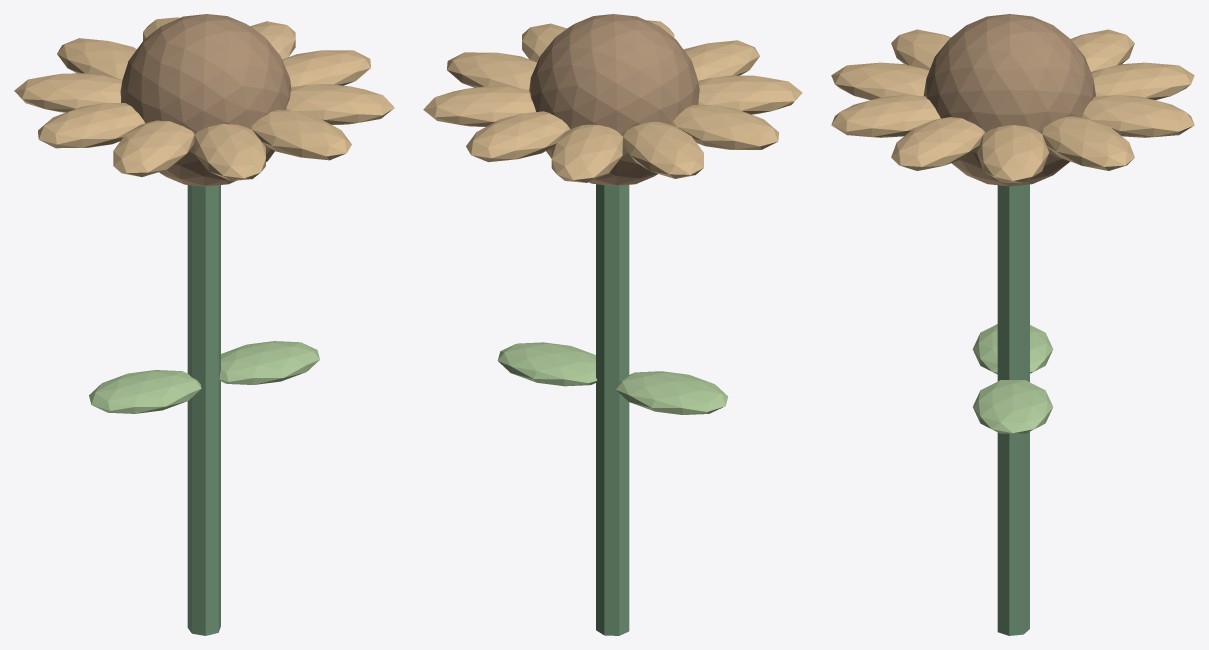
File: sunflower.glb
3 renders of one model, left to right at view 1: azimuth 30°, elevation 25°; view 2: azimuth 150°, elevation 25°; view 3: azimuth 270°, elevation 25°, orthographic.
Parts seen in each view (by area): view 1: Pollen, Stalk, Leaf_-1, Petal_5, Leaf_1, Petal_2, Petal_4, Petal_3, Petal_1, Petal_6, Petal_0, Petal_7 (+1 smaller); view 2: Pollen, Stalk, Leaf_-1, Petal_8, Petal_5, Leaf_1, Petal_6, Petal_9, Petal_7, Petal_4, Petal_0, Petal_3 (+1 smaller); view 3: Pollen, Stalk, Petal_8, Petal_9, Petal_1, Leaf_1, Petal_2, Petal_0, Petal_7, Petal_3, Petal_6, Leaf_-1 (+1 smaller).
Boxes of the visible parts, box(x1,y1,x2,y2) form: Pollen: box(120, 14, 291, 186); Stalk: box(187, 185, 220, 635); Leaf_-1: box(89, 370, 201, 413); Petal_5: box(38, 103, 144, 148); Leaf_1: box(219, 341, 319, 384); Petal_2: box(250, 110, 351, 160); Petal_4: box(113, 120, 194, 176); Petal_3: box(194, 123, 265, 180); Petal_1: box(285, 84, 394, 124); Petal_6: box(14, 73, 122, 112); Petal_0: box(282, 50, 370, 87); Petal_7: box(57, 38, 136, 79); Pollen: box(529, 14, 699, 186); Stalk: box(596, 184, 629, 635); Leaf_-1: box(616, 371, 728, 414); Petal_8: box(466, 111, 570, 162); Petal_5: box(671, 105, 779, 149); Leaf_1: box(497, 342, 597, 386); Petal_6: box(623, 122, 703, 178); Petal_9: box(423, 86, 535, 126); Petal_7: box(551, 124, 622, 182); Petal_4: box(698, 75, 802, 114); Petal_0: box(447, 52, 537, 89); Petal_3: box(683, 40, 759, 80); Pollen: box(923, 14, 1095, 186); Stalk: box(997, 184, 1029, 635); Petal_8: box(1081, 95, 1194, 137); Petal_9: box(1040, 116, 1134, 170); Petal_1: box(891, 117, 985, 170); Leaf_1: box(973, 380, 1052, 433); Petal_2: box(831, 95, 940, 137); Petal_0: box(976, 125, 1049, 182); Petal_7: box(1091, 62, 1194, 100); Petal_3: box(831, 62, 929, 100); Petal_6: box(1070, 29, 1134, 71); Leaf_-1: box(972, 324, 1053, 374).
Bounding box in the file's own units: 1.23 × 2.16 × 1.17.
